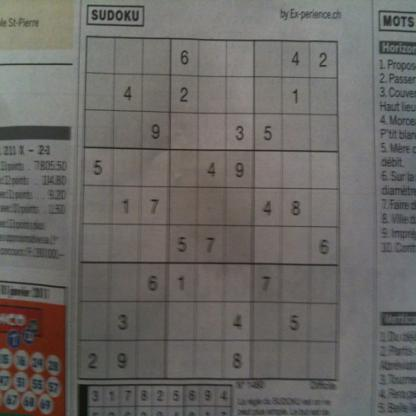sudoku: (74, 32, 344, 384)
